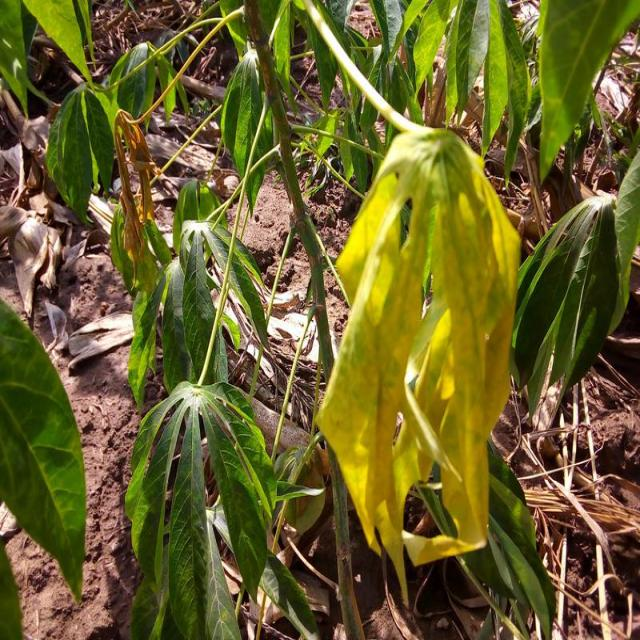cassava leaf: (314, 125, 522, 604), (0, 293, 87, 604), (508, 192, 620, 428)
